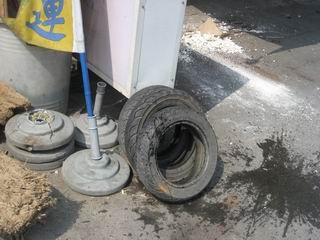tire: (136, 104, 218, 204)
